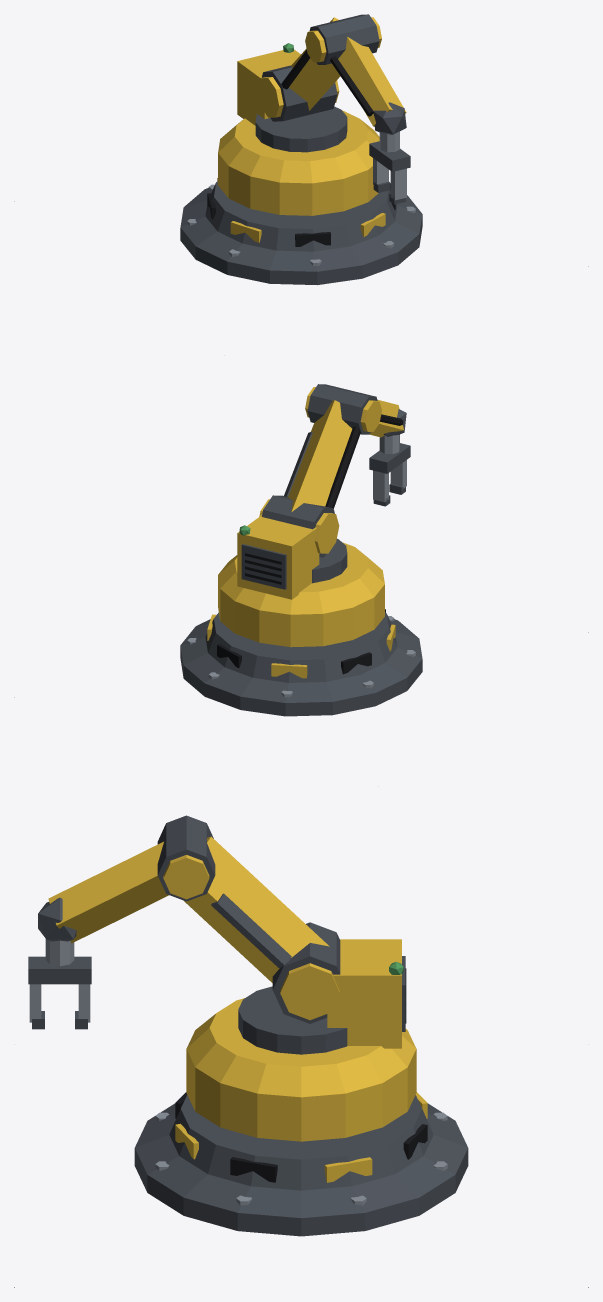
File: bras_t2.glb
The picture shows the model from 3 angles, top to bottom: view 1: azimuth 30°, elevation 25°; view 2: azimuth 150°, elevation 25°; view 3: azimuth 270°, elevation 25°; orthographic projection. The views are drawn at different scales.
Parts seen in each view (by area): view 1: socle_embase.004, tourelle_corps.004, tourelle_acier_sombre.006, tourelle_jaune.002, tourelle_acier.006, tourelle_noir.006, socle_jaune.004, socle_noir.006; view 2: socle_embase.004, tourelle_corps.004, tourelle_jaune.002, tourelle_acier_sombre.006, tourelle_noir.006, tourelle_acier.006, socle_jaune.004, socle_noir.006; view 3: socle_embase.004, tourelle_jaune.002, tourelle_corps.004, tourelle_acier_sombre.006, tourelle_acier.006, socle_jaune.004, socle_noir.006, socle_acier.006.
Part boxes in pixels (x1=…): socle_embase.004: x1=180, y1=181, x2=422, y2=285; tourelle_corps.004: x1=218, y1=110, x2=379, y2=215; tourelle_acier_sombre.006: x1=255, y1=14, x2=410, y2=204; tourelle_jaune.002: x1=237, y1=17, x2=406, y2=126; tourelle_acier.006: x1=373, y1=131, x2=406, y2=200; tourelle_noir.006: x1=281, y1=50, x2=373, y2=116; socle_jaune.004: x1=217, y1=177, x2=385, y2=242; socle_noir.006: x1=207, y1=183, x2=395, y2=246; socle_embase.004: x1=180, y1=612, x2=422, y2=716; tourelle_corps.004: x1=218, y1=542, x2=384, y2=647; tourelle_jaune.002: x1=237, y1=387, x2=403, y2=599; tourelle_acier_sombre.006: x1=241, y1=384, x2=410, y2=589; tourelle_noir.006: x1=245, y1=414, x2=403, y2=584; tourelle_acier.006: x1=373, y1=434, x2=406, y2=502; socle_jaune.004: x1=207, y1=614, x2=395, y2=678; socle_noir.006: x1=217, y1=609, x2=385, y2=674; socle_embase.004: x1=134, y1=1095, x2=468, y2=1236; tourelle_jaune.002: x1=48, y1=836, x2=401, y2=1048; tourelle_corps.004: x1=186, y1=998, x2=416, y2=1141; tourelle_acier_sombre.006: x1=28, y1=815, x2=405, y2=1054; tourelle_acier.006: x1=29, y1=939, x2=90, y2=1022; socle_jaune.004: x1=175, y1=1092, x2=427, y2=1182; socle_noir.006: x1=175, y1=1092, x2=427, y2=1182; socle_acier.006: x1=155, y1=1112, x2=447, y2=1205.
Bounding box in the file's own units: 1 × 0.64 × 1.
